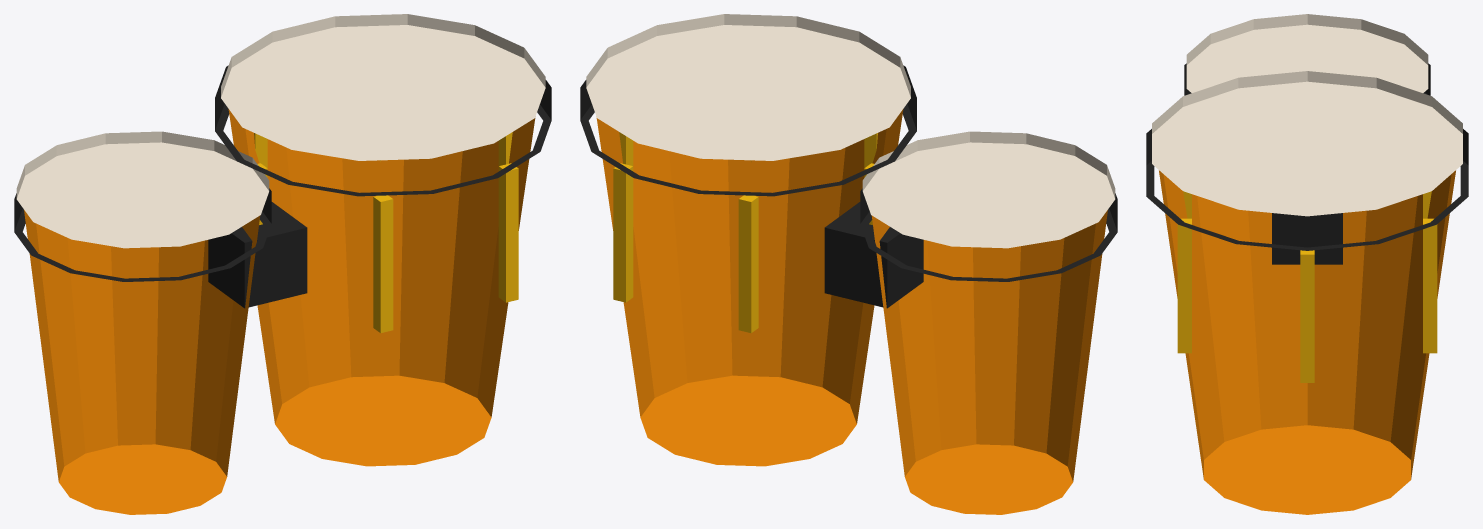
File: bongotrumma.glb
The picture shows the model from 3 angles, left to right: view 1: azimuth 30°, elevation 25°; view 2: azimuth 150°, elevation 25°; view 3: azimuth 270°, elevation 25°; orthographic projection. The views are drawn at different scales.
Parts seen in each view (by area): view 1: bongotrumma; view 2: bongotrumma; view 3: bongotrumma.
Boxes of the visible parts, x1,y1,x2,y2 form: bongotrumma: [14, 14, 551, 514]; bongotrumma: [580, 14, 1117, 514]; bongotrumma: [1146, 14, 1468, 514].
Size of the model in its own units: 0.477 by 0.31 by 0.273.
